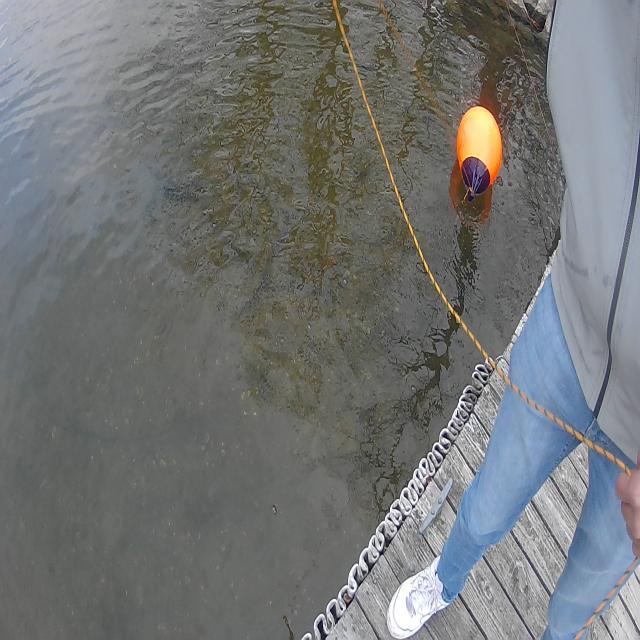Buoy: (455, 102, 503, 200)
